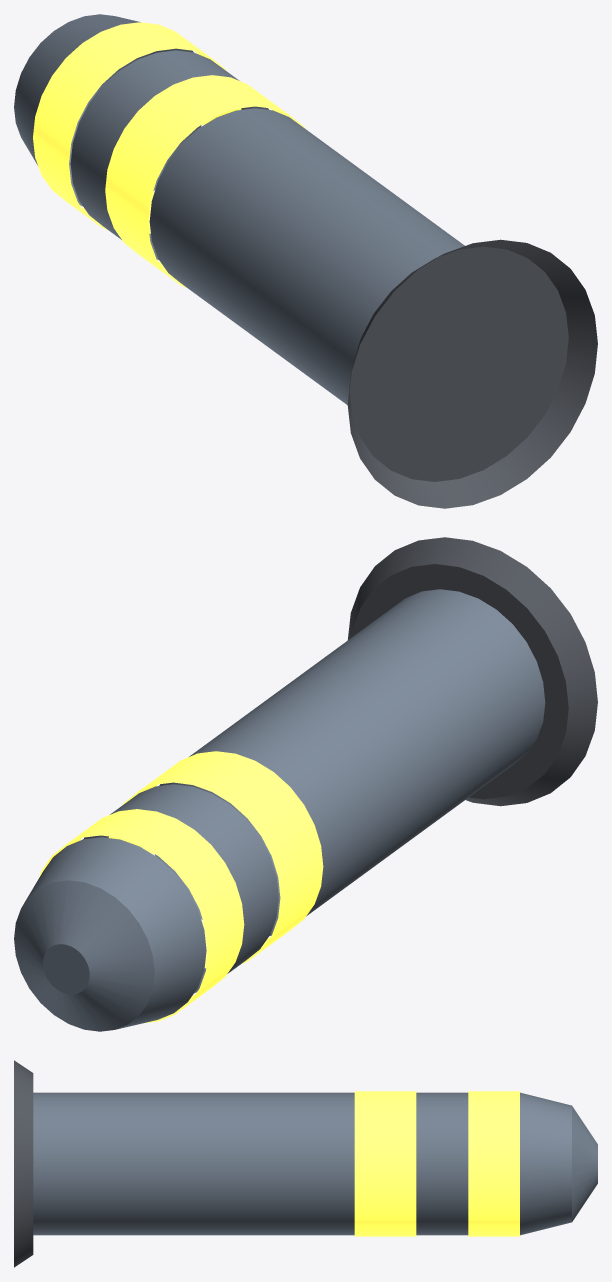
The model's file is steel_bollard.glb.
3 renders of one model, top to bottom at view 1: azimuth 30°, elevation 25°; view 2: azimuth 150°, elevation 25°; view 3: azimuth 270°, elevation 25°, orthographic. The views are drawn at different scales.
Visible parts, largest first — view 1: Steel_Bollard; view 2: Steel_Bollard; view 3: Steel_Bollard.
Part boxes in pixels (left/top/right/bottom): Steel_Bollard: left=14, top=14, right=597, bottom=508; Steel_Bollard: left=14, top=537, right=597, bottom=1031; Steel_Bollard: left=14, top=1060, right=597, bottom=1267.
Bounding box in the file's own units: 0.64 × 0.64 × 1.8.
